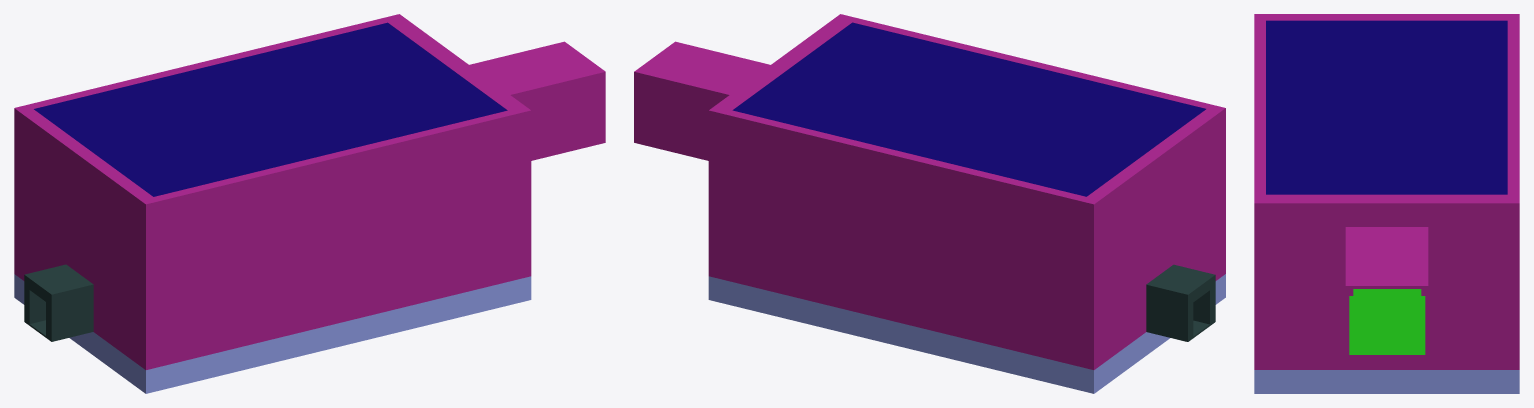
The model's file is FYP_TempleInnerCorridor_Textured_V5.FBX.
The picture shows the model from 3 angles, left to right: view 1: azimuth 30°, elevation 25°; view 2: azimuth 150°, elevation 25°; view 3: azimuth 270°, elevation 25°; orthographic projection.
Visible parts, largest first — view 1: Corridor, Ceiling, Entrance; view 2: Corridor, Ceiling, Entrance; view 3: Corridor, Ceiling.
Part boxes in pixels (bbox=[...]): Corridor: bbox=[14, 14, 605, 393]; Ceiling: bbox=[34, 22, 507, 196]; Entrance: bbox=[24, 264, 93, 341]; Corridor: bbox=[634, 14, 1225, 393]; Ceiling: bbox=[732, 22, 1205, 196]; Entrance: bbox=[1146, 264, 1215, 341]; Corridor: bbox=[1254, 14, 1519, 393]; Ceiling: bbox=[1266, 20, 1507, 194].
Bounding box in the file's own units: 292 × 96.68 × 122.
